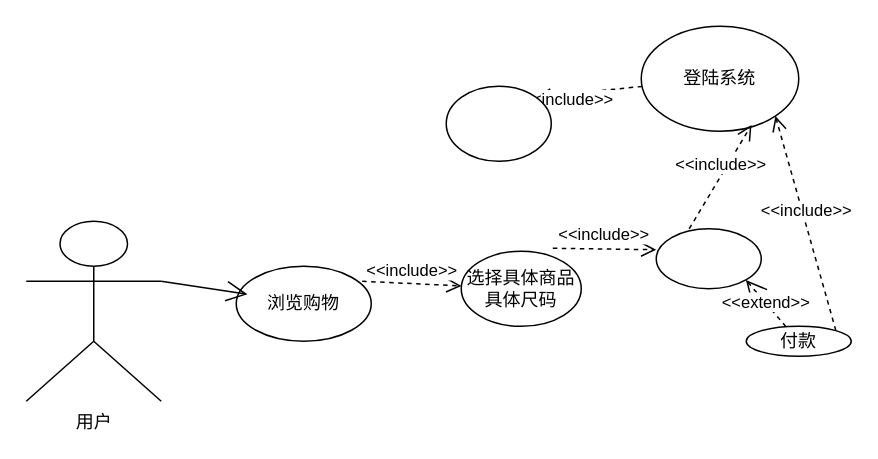
Some shapes in this 878 by 459 pixel diagram are drawn without their labels. Each missing label, with the centre of its shape:
校验货物储量: point 708,258
身份验证: point 498,123
